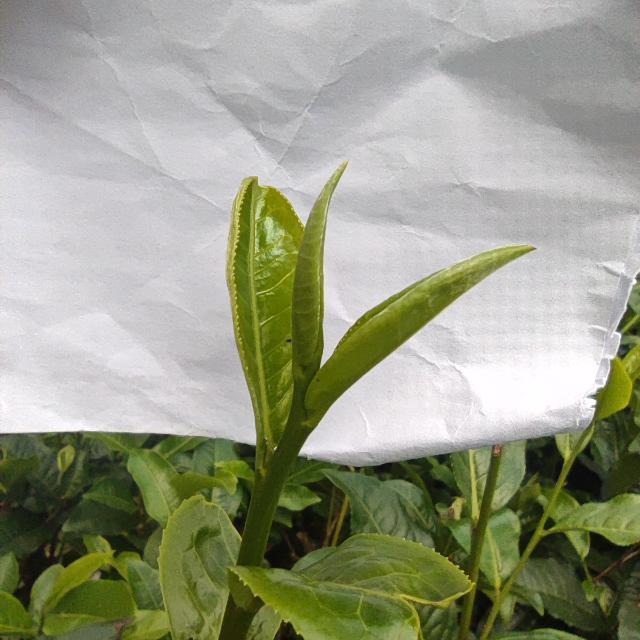Stem: (248, 479, 284, 520)
